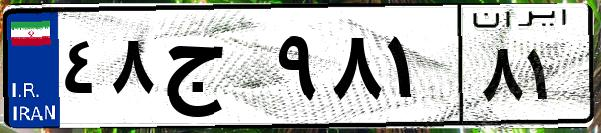1: (385, 28, 445, 110), (525, 38, 570, 115)
4: (57, 26, 110, 100)
8: (330, 28, 385, 110), (475, 38, 525, 113), (110, 28, 158, 98)
9: (270, 28, 330, 110)
ج: (158, 20, 270, 120)
